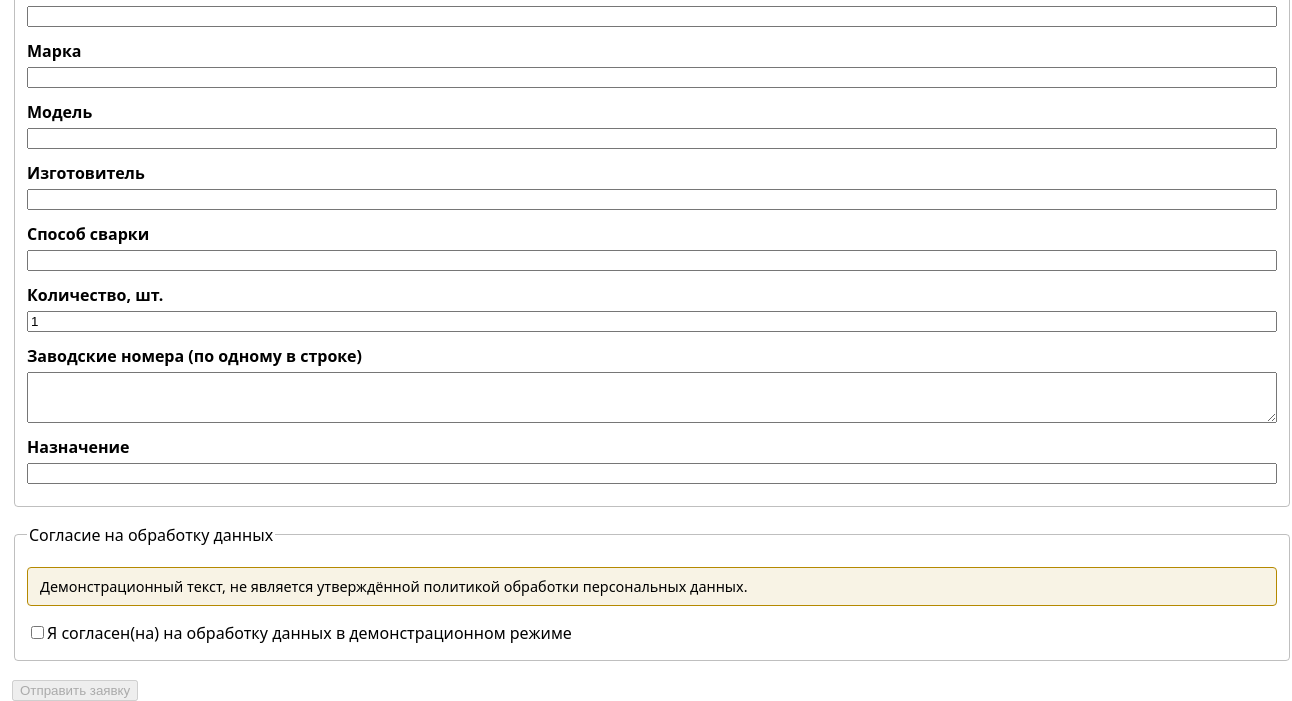
Test: SurveyForm › keeps the submit button disabled until consent is checked
(page scrolled)
Expected: the button "Отправить заявку" is disabled, left=12, top=680, right=138, bottom=700
Click the checkbox labelled "Я согласен(на) на обработку данных в демонстрационном режиме".
click(38, 632)  # box left=31, top=626, right=44, bottom=639
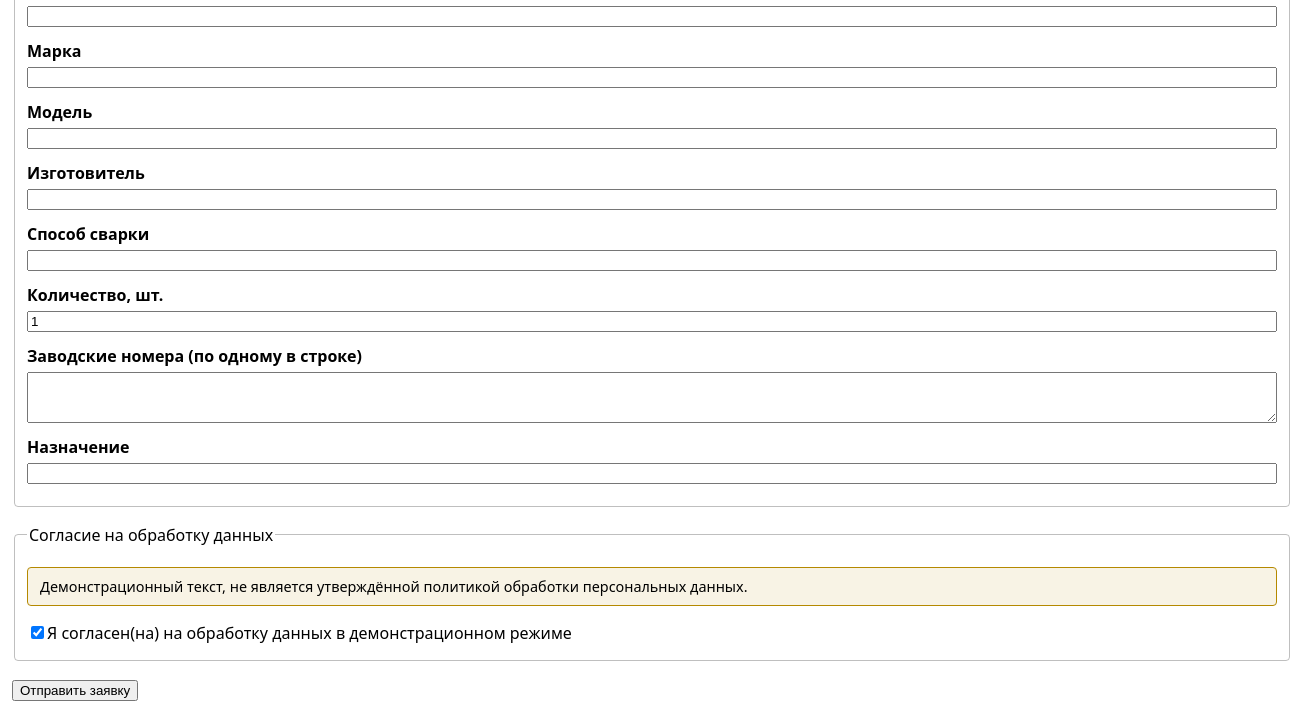
Expected: the button "Отправить заявку" is enabled, left=12, top=680, right=138, bottom=700
Click the checkbox labelled "Я согласен(на) на обработку данных в демонстрационном режиме".
click(38, 632)  # box left=31, top=626, right=44, bottom=639
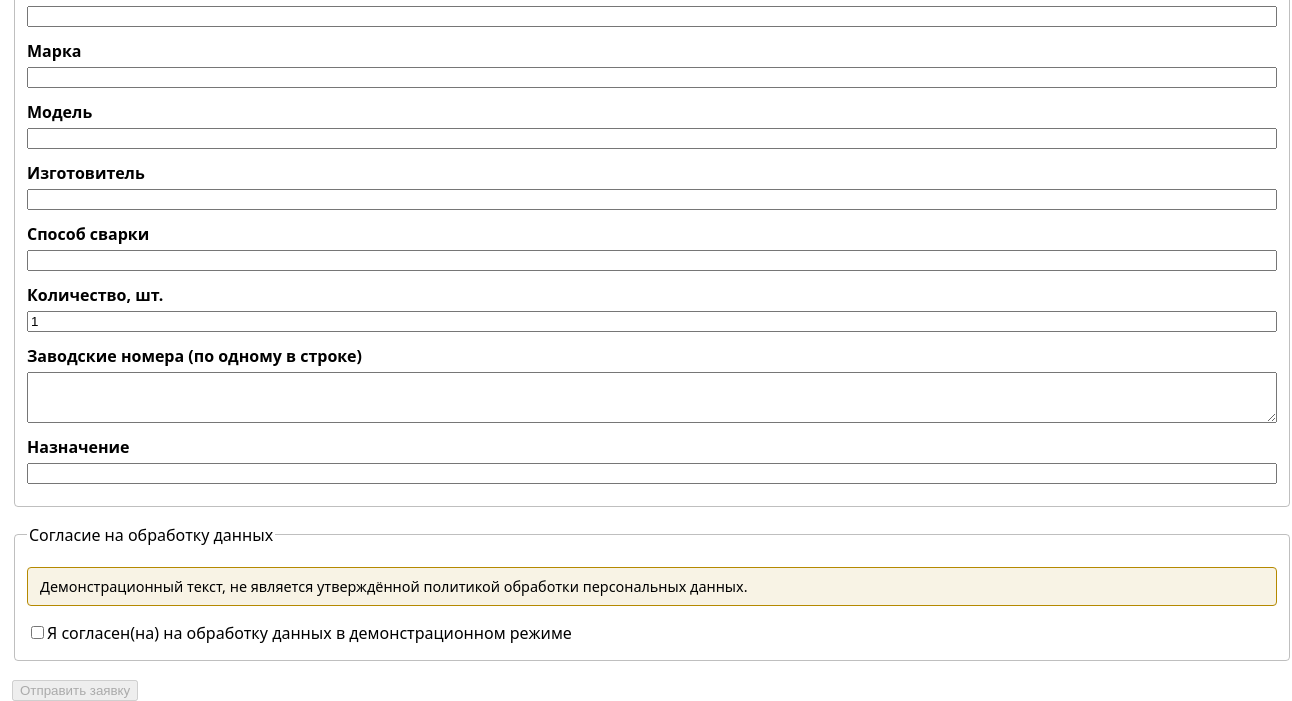
Expected: the button "Отправить заявку" is disabled, left=12, top=680, right=138, bottom=700
